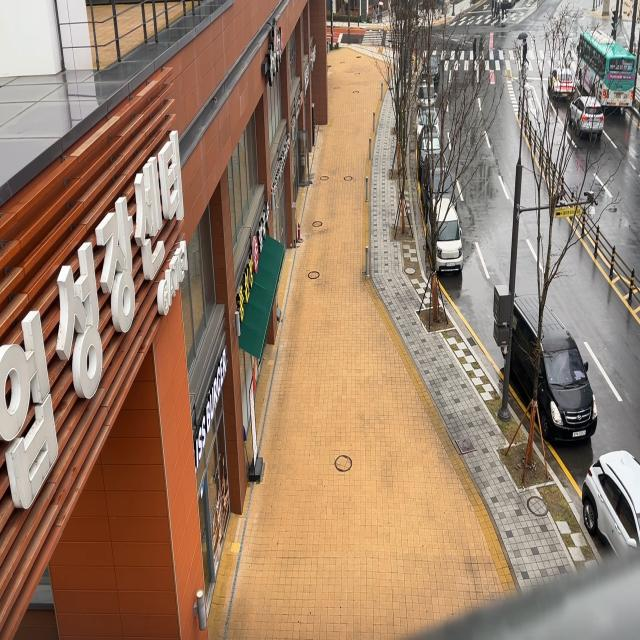Bus: (570, 16, 638, 112)
Car: (494, 284, 602, 446), (571, 433, 640, 586), (426, 198, 464, 280), (423, 151, 459, 220), (562, 91, 608, 143), (416, 99, 444, 148), (418, 127, 445, 174), (413, 75, 440, 118), (544, 66, 575, 99), (423, 46, 444, 84)
